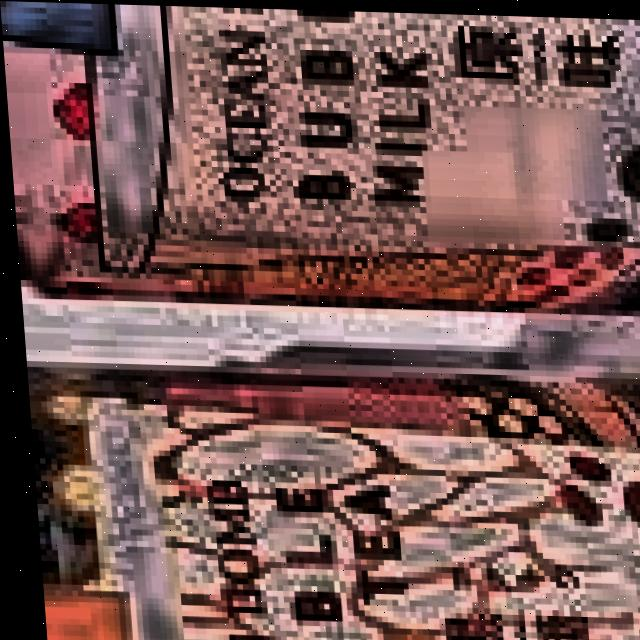metal: (0, 0, 640, 341), (19, 332, 640, 640)
